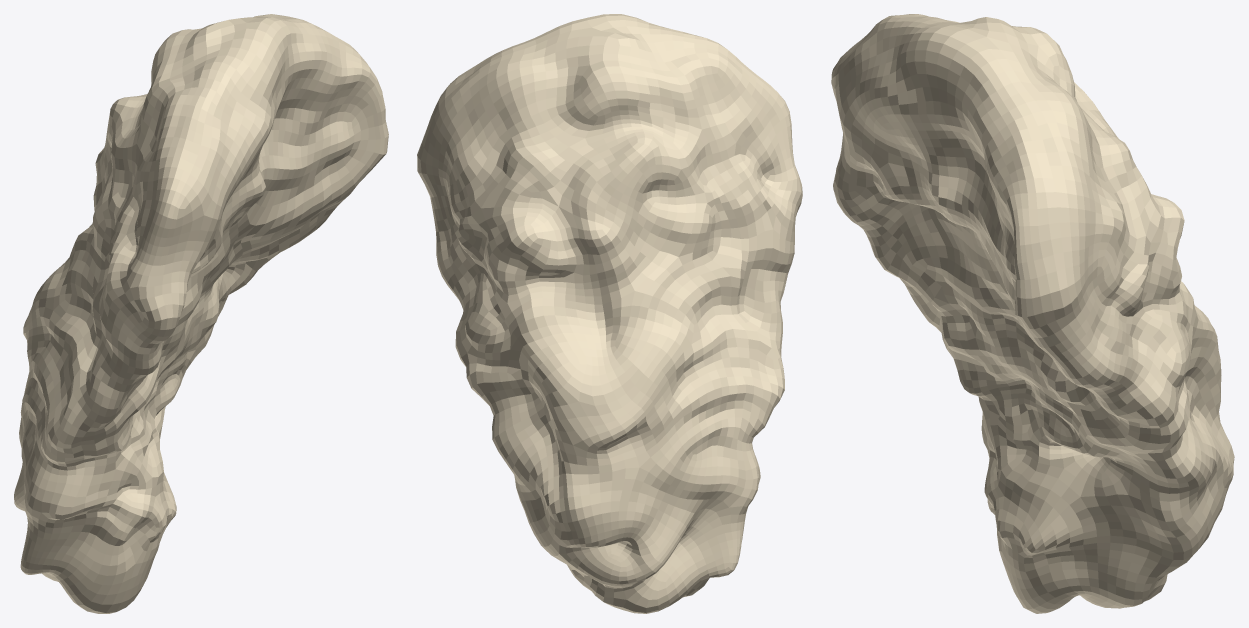
File: palatine-tonsil-female-right.glb
3 renders of one model, left to right at view 1: azimuth 30°, elevation 25°; view 2: azimuth 150°, elevation 25°; view 3: azimuth 270°, elevation 25°, orthographic. The views are drawn at different scales.
Parts seen in each view (by area): view 1: VH_F_palatine_tonsil_R; view 2: VH_F_palatine_tonsil_R; view 3: VH_F_palatine_tonsil_R.
Part boxes in pixels (left/top/right/bottom): VH_F_palatine_tonsil_R: left=14, top=14, right=388, bottom=613; VH_F_palatine_tonsil_R: left=417, top=14, right=802, bottom=613; VH_F_palatine_tonsil_R: left=831, top=14, right=1234, bottom=613.
Size of the model in its own units: 0.0178 by 0.0273 by 0.0156.
